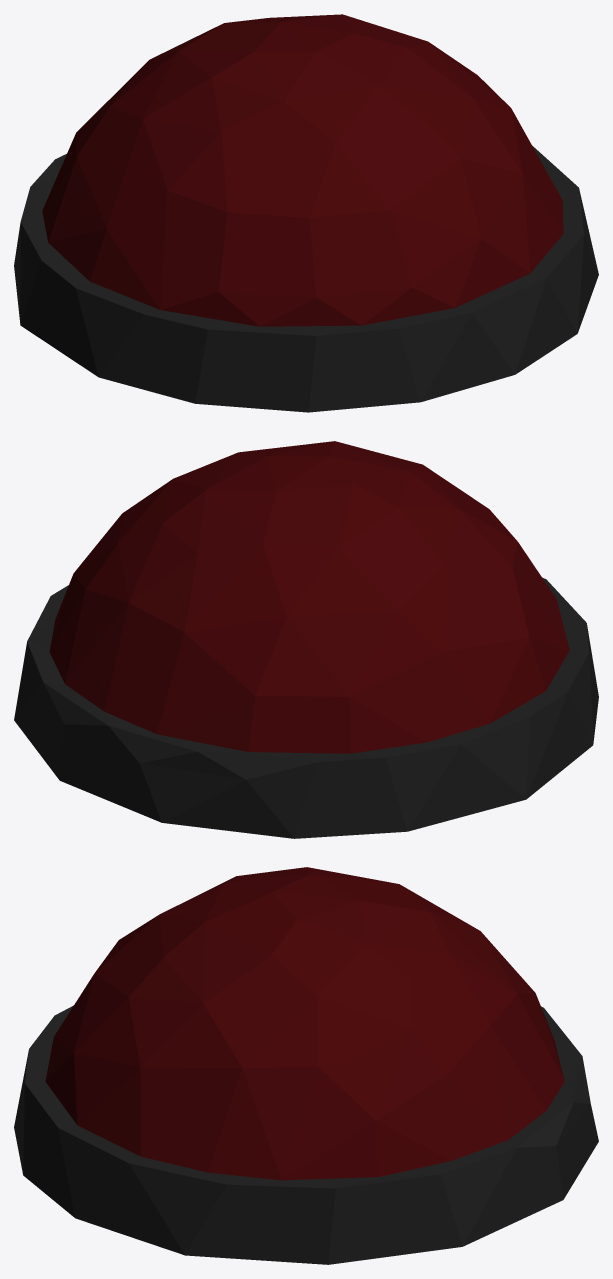
File: Light Off Red.fbx
3 renders of one model, top to bottom at view 1: azimuth 30°, elevation 25°; view 2: azimuth 150°, elevation 25°; view 3: azimuth 270°, elevation 25°, orthographic.
Parts seen in each view (by area): view 1: Sphere; view 2: Sphere; view 3: Sphere.
Boxes of the visible parts, x1,y1,x2,y2 form: Sphere: (14, 14, 598, 412); Sphere: (14, 441, 598, 838); Sphere: (14, 867, 598, 1264).
Size of the model in its own units: 214 by 101 by 216.
